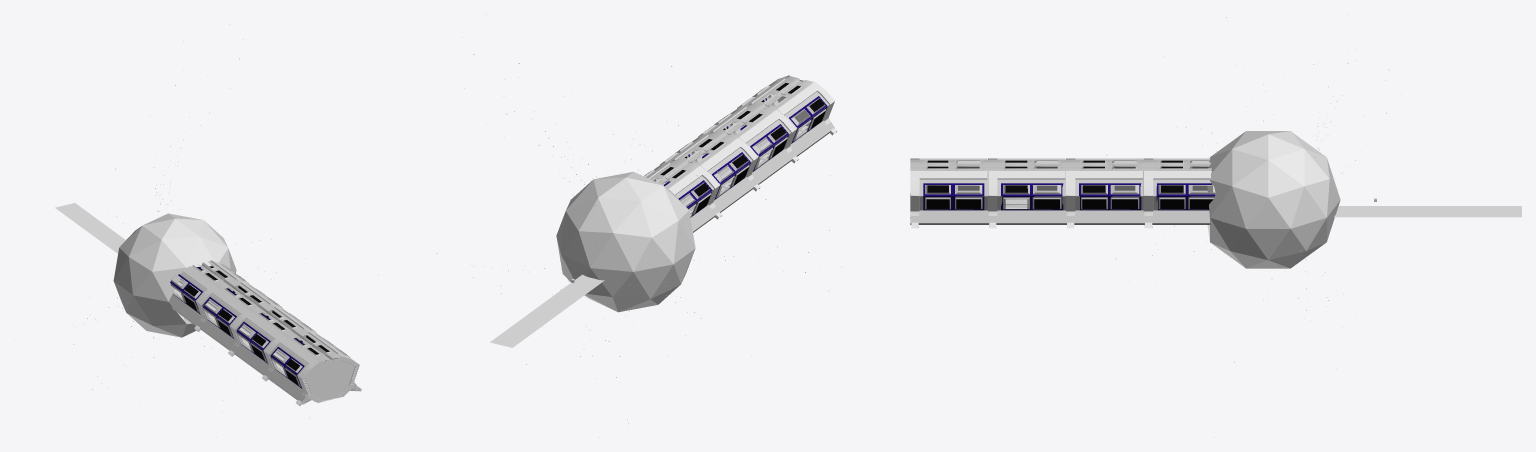
The model's file is Cutscene.fbx.
3 renders of one model, left to right at view 1: azimuth 30°, elevation 25°; view 2: azimuth 150°, elevation 25°; view 3: azimuth 270°, elevation 25°, orthographic. The views are drawn at different scales.
Visible parts, largest first — view 1: Icosphere, Extrude_1, Pillars, Extrude_1.001, Door, Plane; view 2: Icosphere, Extrude_1, Pillars, Extrude_1.001, Plane; view 3: Icosphere, Extrude_1, Pillars, Extrude_1.001, Plane.
Part boxes in pixels (bbox=[...]): Icosphere: bbox=[113, 213, 236, 337]; Extrude_1: bbox=[169, 261, 359, 404]; Pillars: bbox=[183, 260, 361, 405]; Extrude_1.001: bbox=[168, 261, 314, 376]; Door: bbox=[306, 357, 358, 400]; Plane: bbox=[55, 203, 125, 253]; Icosphere: bbox=[556, 171, 695, 312]; Extrude_1: bbox=[644, 76, 834, 231]; Pillars: bbox=[646, 75, 837, 219]; Extrude_1.001: bbox=[655, 111, 795, 232]; Plane: bbox=[490, 274, 604, 347]; Icosphere: bbox=[1207, 131, 1340, 268]; Extrude_1: bbox=[910, 159, 1214, 224]; Pillars: bbox=[910, 158, 1211, 228]; Extrude_1.001: bbox=[989, 160, 1215, 224]; Plane: bbox=[1334, 206, 1521, 217].
Bounding box in the file's own units: 3230 × 3379 × 4558.
